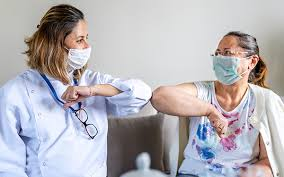Bad: (1, 4, 284, 177)
